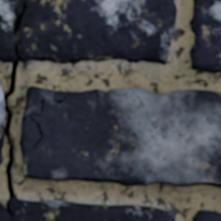brick: (21, 88, 220, 187), (191, 0, 220, 71), (0, 81, 5, 163), (193, 211, 220, 220)
broken_brick: (0, 0, 178, 65), (0, 198, 177, 220)
crack: (0, 2, 27, 218), (22, 97, 67, 150)
